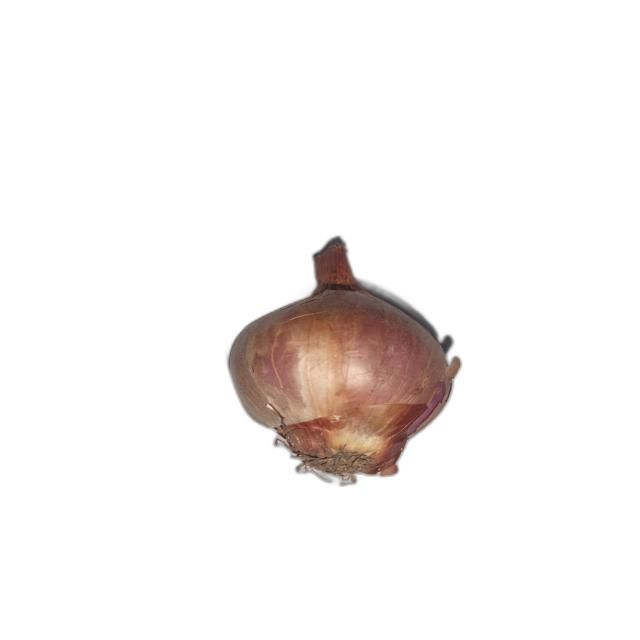onion: (225, 235, 463, 487)
